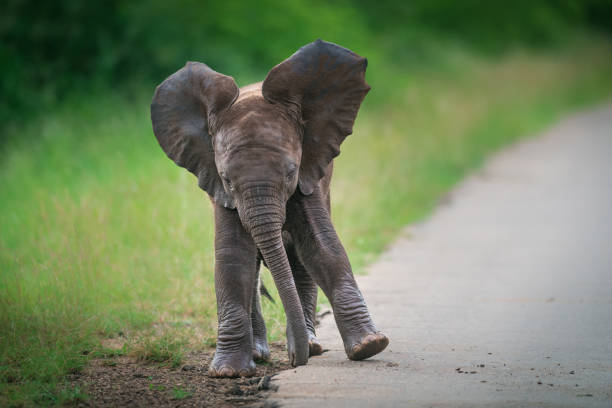elephant: (122, 30, 434, 392)
